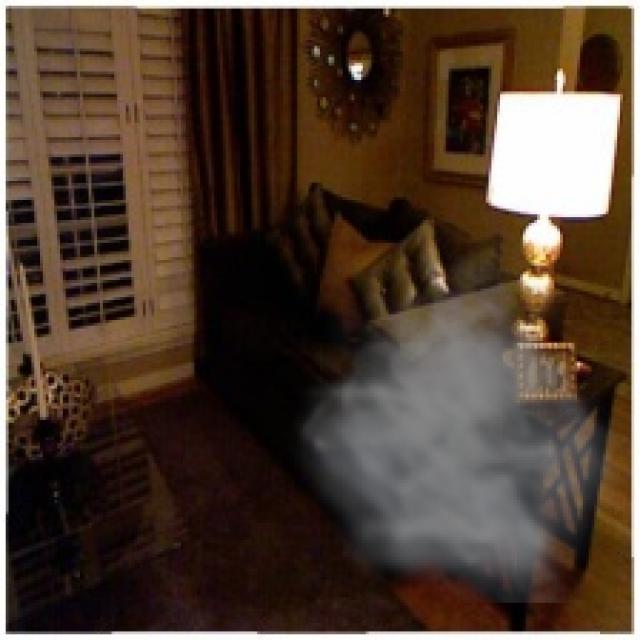smoke: (283, 254, 634, 603)
